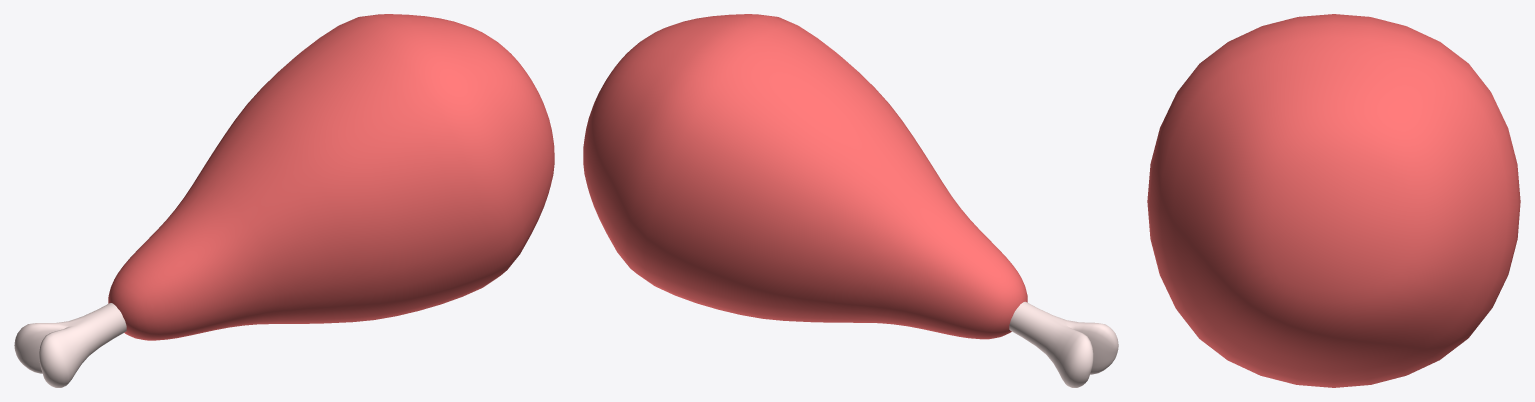
File: Store_16_Ham_1.glb
3 views of the same model, side by side, from view 1: azimuth 30°, elevation 25°; view 2: azimuth 150°, elevation 25°; view 3: azimuth 270°, elevation 25° (orthographic). The views are drawn at different scales.
Parts seen in each view (by area): view 1: Store_16_Ham_1; view 2: Store_16_Ham_1; view 3: Store_16_Ham_1.
Part boxes in pixels (x1,y1,x2,y2): Store_16_Ham_1: (14,14,554,387); Store_16_Ham_1: (583,14,1118,387); Store_16_Ham_1: (1147,14,1520,387).
Bounding box in the file's own units: 0.7612 × 0.386 × 0.3808.
1 material, 1 textured.
